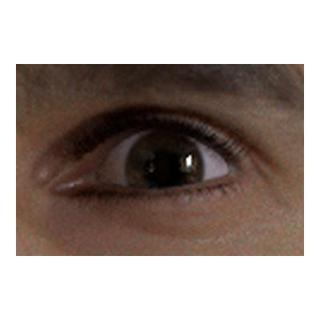pupil: (146, 151, 182, 187)
